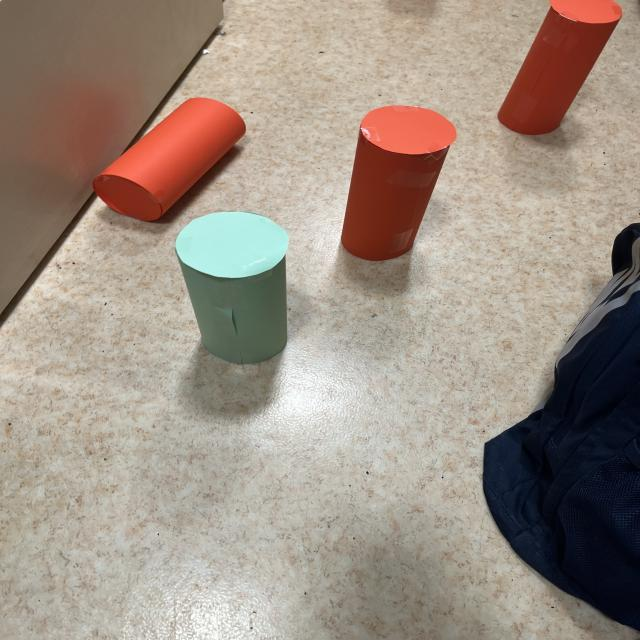meta: (175, 212, 289, 364)
przeszkoda: (93, 98, 245, 221), (341, 106, 456, 260), (498, 0, 622, 134)
